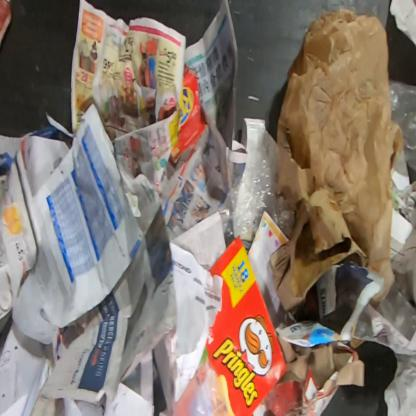cardboard: (269, 116, 369, 312), (205, 235, 288, 415), (168, 64, 209, 166)
soft_plastic: (280, 7, 404, 306), (220, 128, 290, 248), (388, 78, 415, 172)
